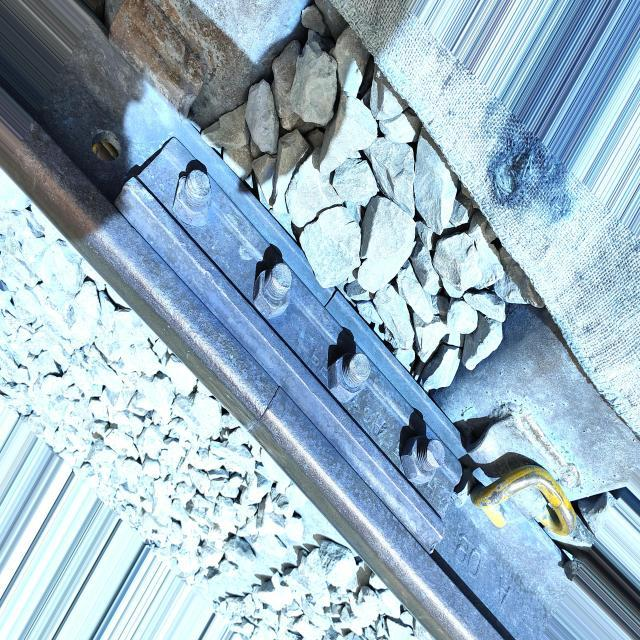Good Fasteners: (466, 393, 584, 558)
Good Joint: (118, 129, 467, 559)
